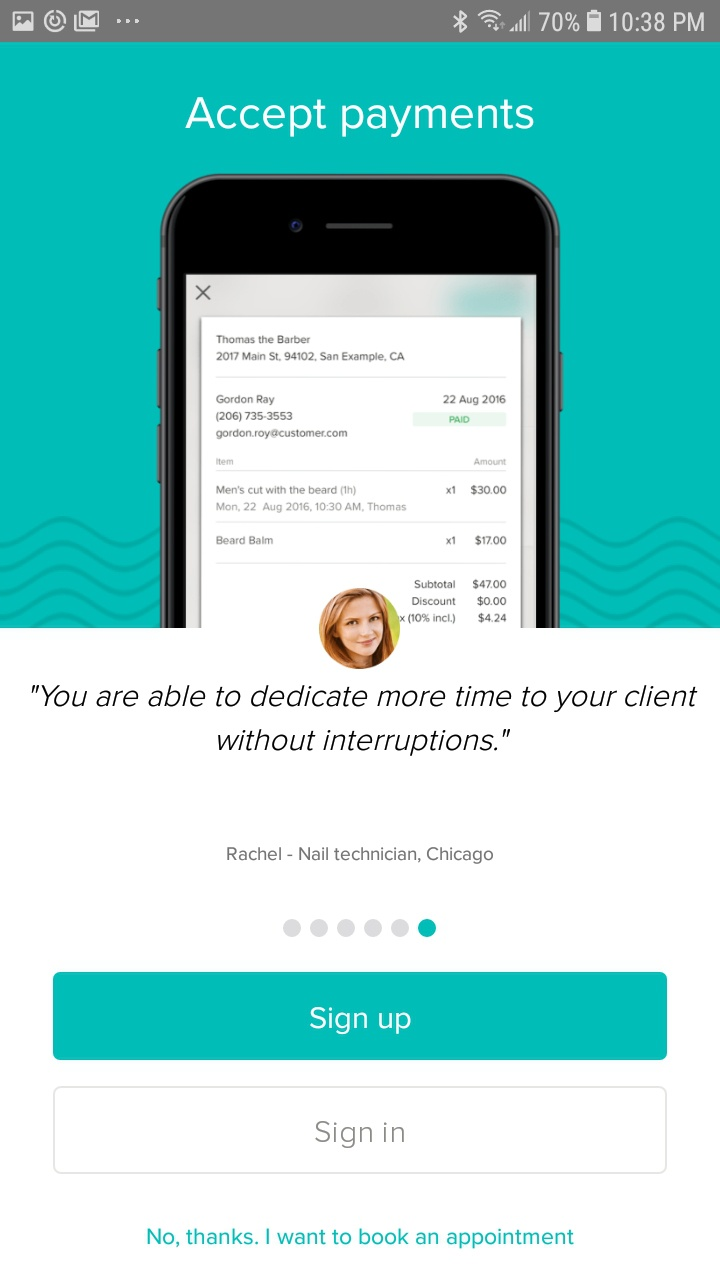Image: (156, 174, 564, 629), (318, 587, 401, 670)
PageIndicator: (283, 918, 437, 938)
Text: (31, 684, 698, 757), (185, 97, 535, 139), (148, 1227, 575, 1249), (227, 845, 494, 865)
TextButton: (53, 1085, 667, 1174), (54, 972, 668, 1061)
UpperTaskBar: (1, 1, 720, 43)
